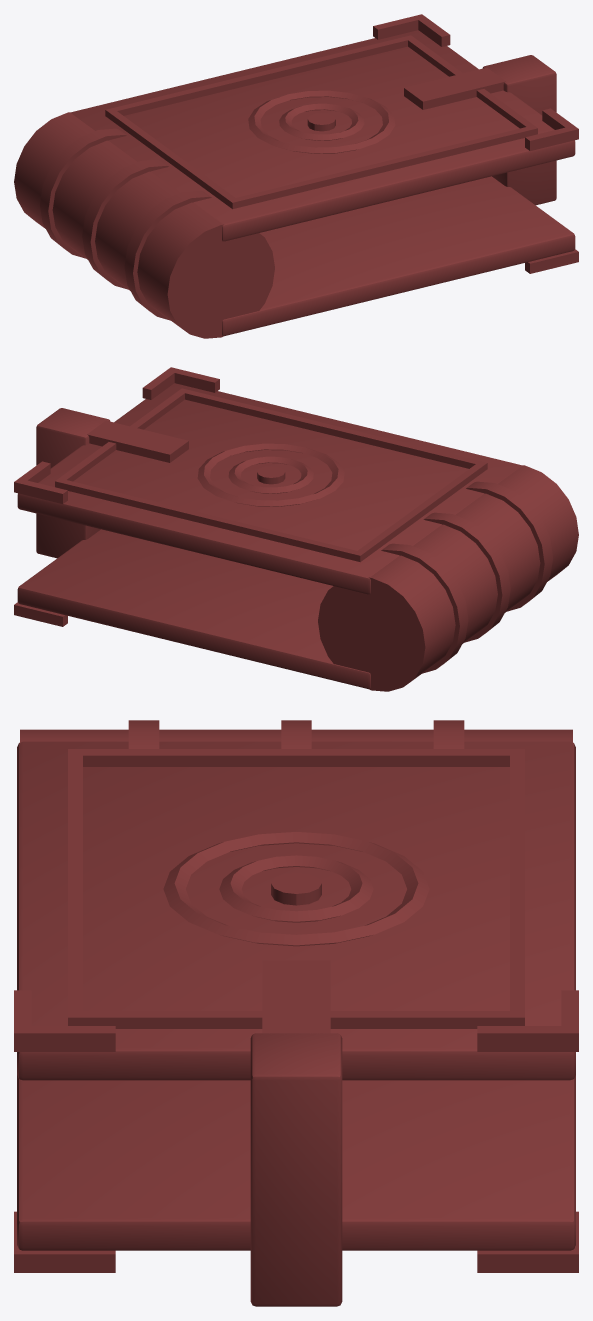
Rendered from book.glb.
3 views of the same model, one above another, from view 1: azimuth 30°, elevation 25°; view 2: azimuth 150°, elevation 25°; view 3: azimuth 270°, elevation 25° (orthographic). The views are drawn at different scales.
Parts seen in each view (by area): view 1: Book; view 2: Book; view 3: Book.
Boxes of the visible parts, <box> form: Book: <box>14,14,578,338</box>; Book: <box>14,367,578,691</box>; Book: <box>14,720,578,1306</box>.
Bounding box in the file's own units: 1.88 × 0.52 × 1.11.
